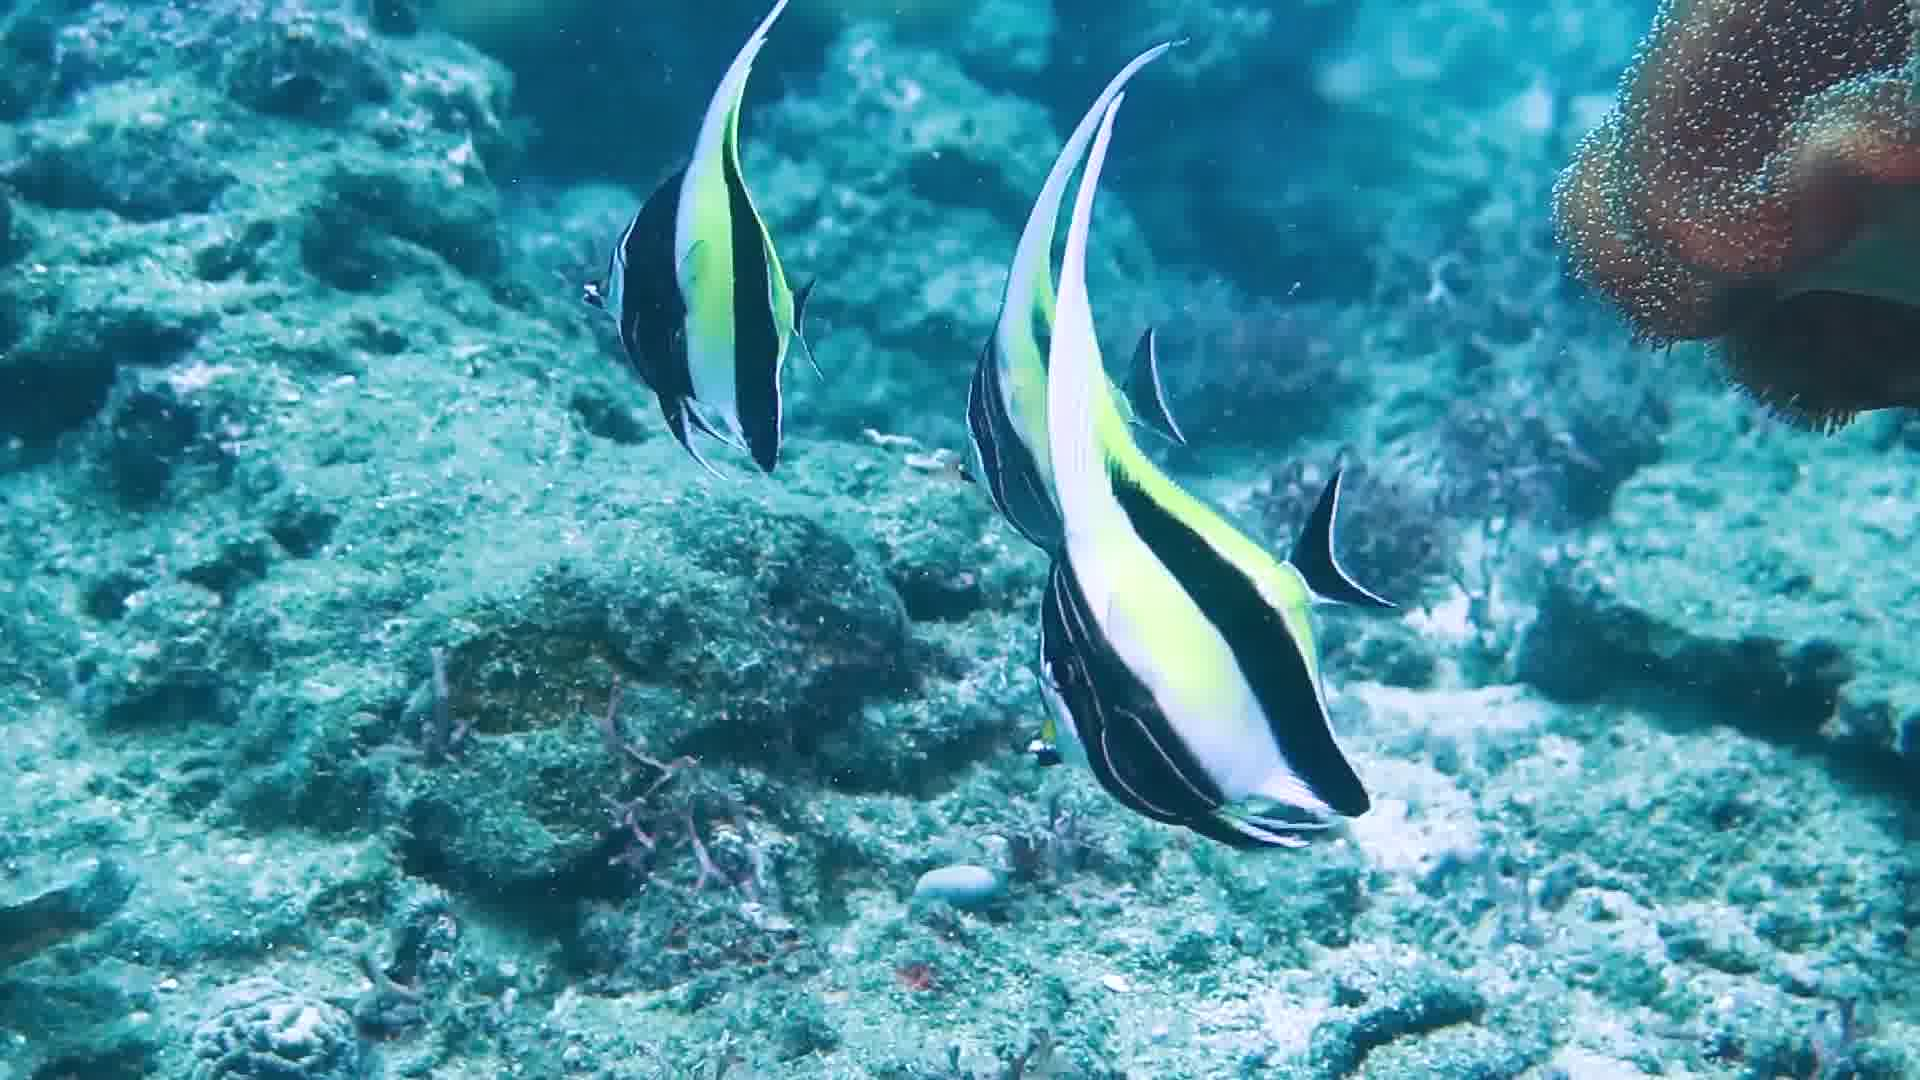Zanclus cornutus: (971, 339, 1394, 848), (578, 138, 816, 473)
